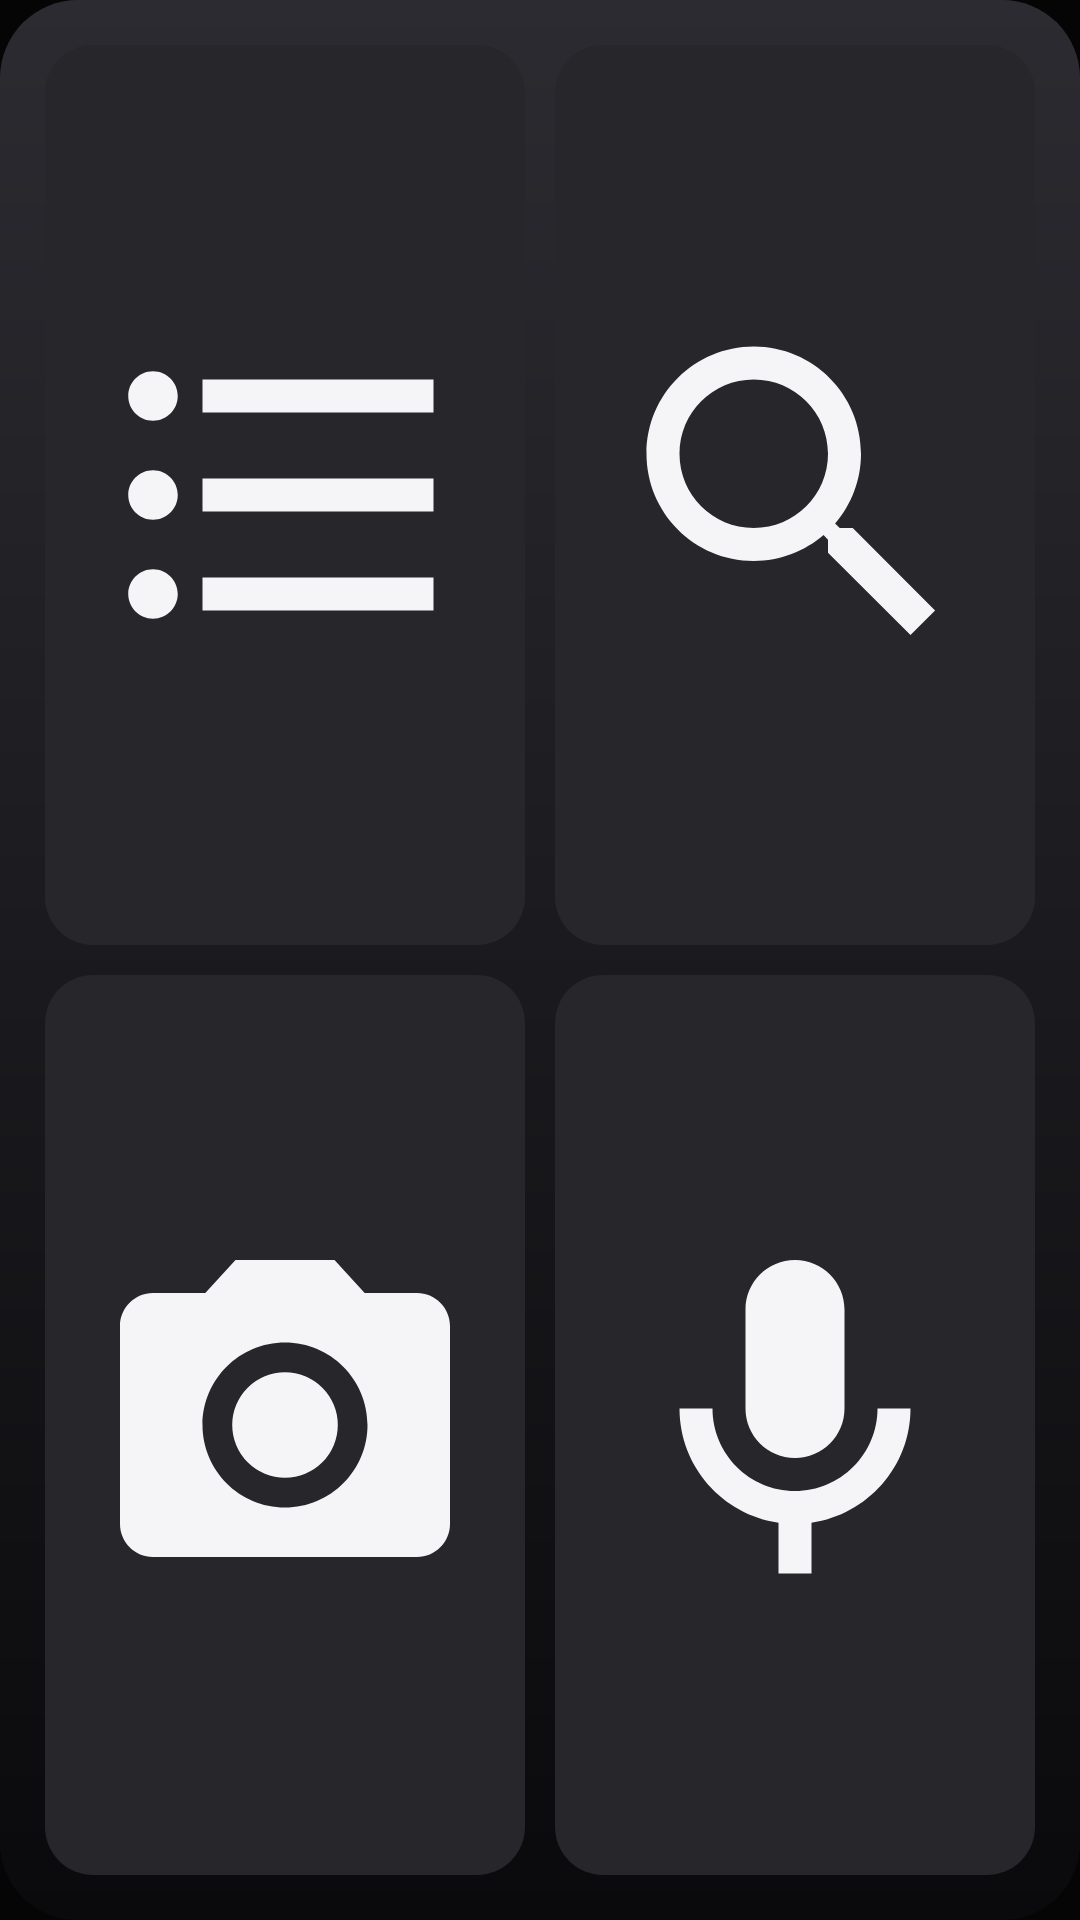

Icon bounding boxes for this 1080 x 1920 phone screenshot, format (x1, y1, x2, y2):
Buscar: (646, 346, 935, 635)
Escanear: (120, 1260, 450, 1557)
